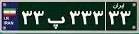character: (47, 11, 66, 32), (33, 6, 45, 29), (68, 5, 81, 26), (92, 7, 105, 28), (21, 7, 33, 29), (81, 7, 92, 28), (108, 9, 120, 27), (119, 10, 132, 26)
